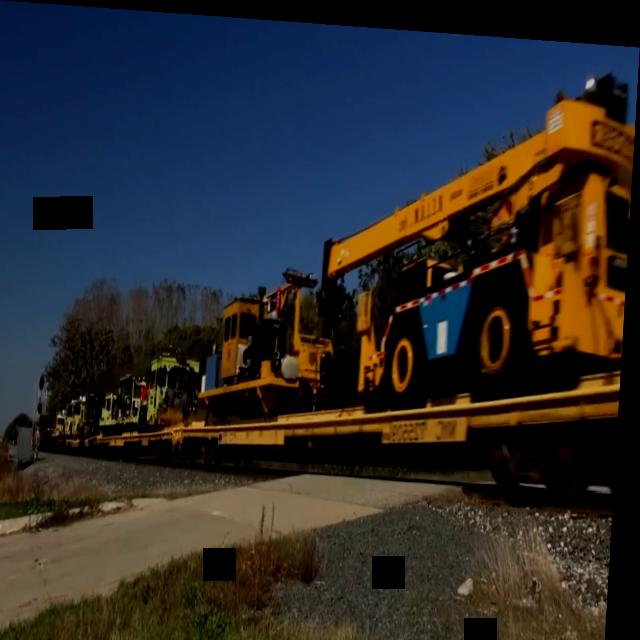cargo: (313, 26, 640, 424), (200, 250, 345, 431), (143, 339, 206, 431)
flatcar: (143, 300, 626, 492)
